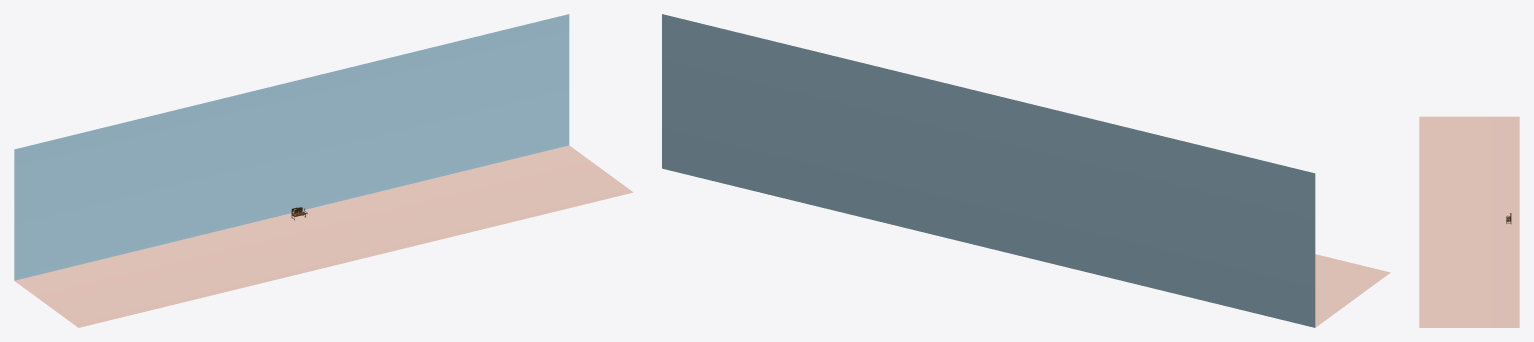
File: desk.glb
The picture shows the model from 3 angles, left to right: view 1: azimuth 30°, elevation 25°; view 2: azimuth 150°, elevation 25°; view 3: azimuth 270°, elevation 25°; orthographic projection. The views are drawn at different scales.
Parts seen in each view (by area): view 1: Floor; view 2: Floor; view 3: Floor.
Part boxes in pixels (left/top/right/bottom): Floor: left=14, top=14, right=633, bottom=327; Floor: left=662, top=14, right=1390, bottom=327; Floor: left=1419, top=116, right=1519, bottom=327.
Size of the model in its own units: 1285 by 291 by 258.
Materials: 3 (3 with a texture image).
